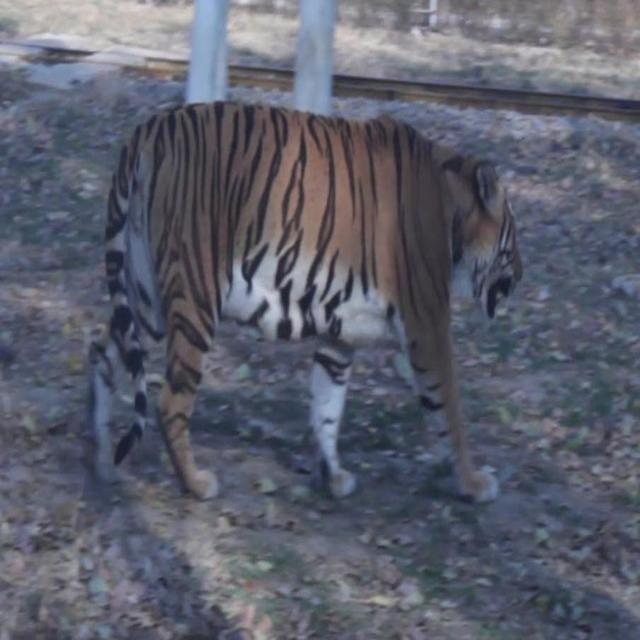tiger: (80, 98, 523, 506)
